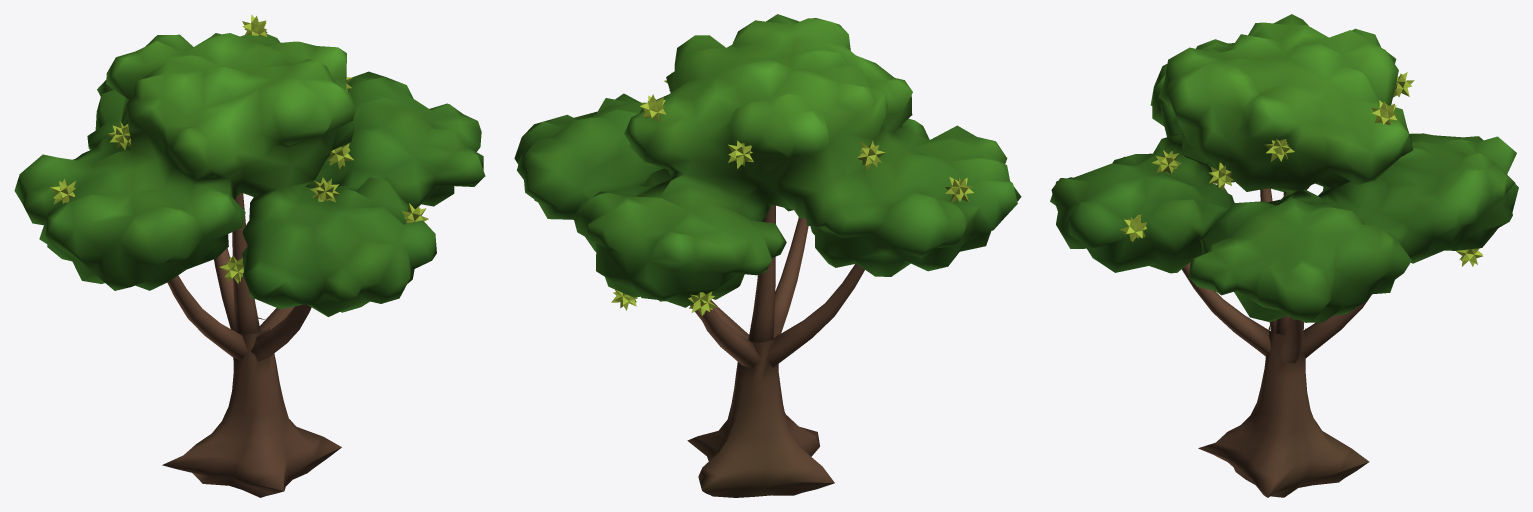
The model's file is tree-chestnut.glb.
3 views of the same model, side by side, from view 1: azimuth 30°, elevation 25°; view 2: azimuth 150°, elevation 25°; view 3: azimuth 270°, elevation 25° (orthographic). The views are drawn at different scales.
Parts seen in each view (by area): view 1: Chestnut Leaves, Chestnut Bark, Burrs; view 2: Chestnut Leaves, Chestnut Bark, Burrs; view 3: Chestnut Leaves, Chestnut Bark, Burrs.
Boxes of the visible parts, x1,y1,x2,y2 form: Chestnut Leaves: (14, 33, 485, 316); Chestnut Bark: (162, 193, 341, 497); Burrs: (50, 14, 428, 283); Chestnut Leaves: (514, 14, 1021, 307); Chestnut Bark: (687, 205, 864, 497); Burrs: (611, 72, 973, 315); Chestnut Leaves: (1050, 14, 1518, 322); Chestnut Bark: (1182, 188, 1371, 497); Burrs: (1120, 72, 1482, 266).
Size of the model in its own units: 8.43 by 7.46 by 7.56.
